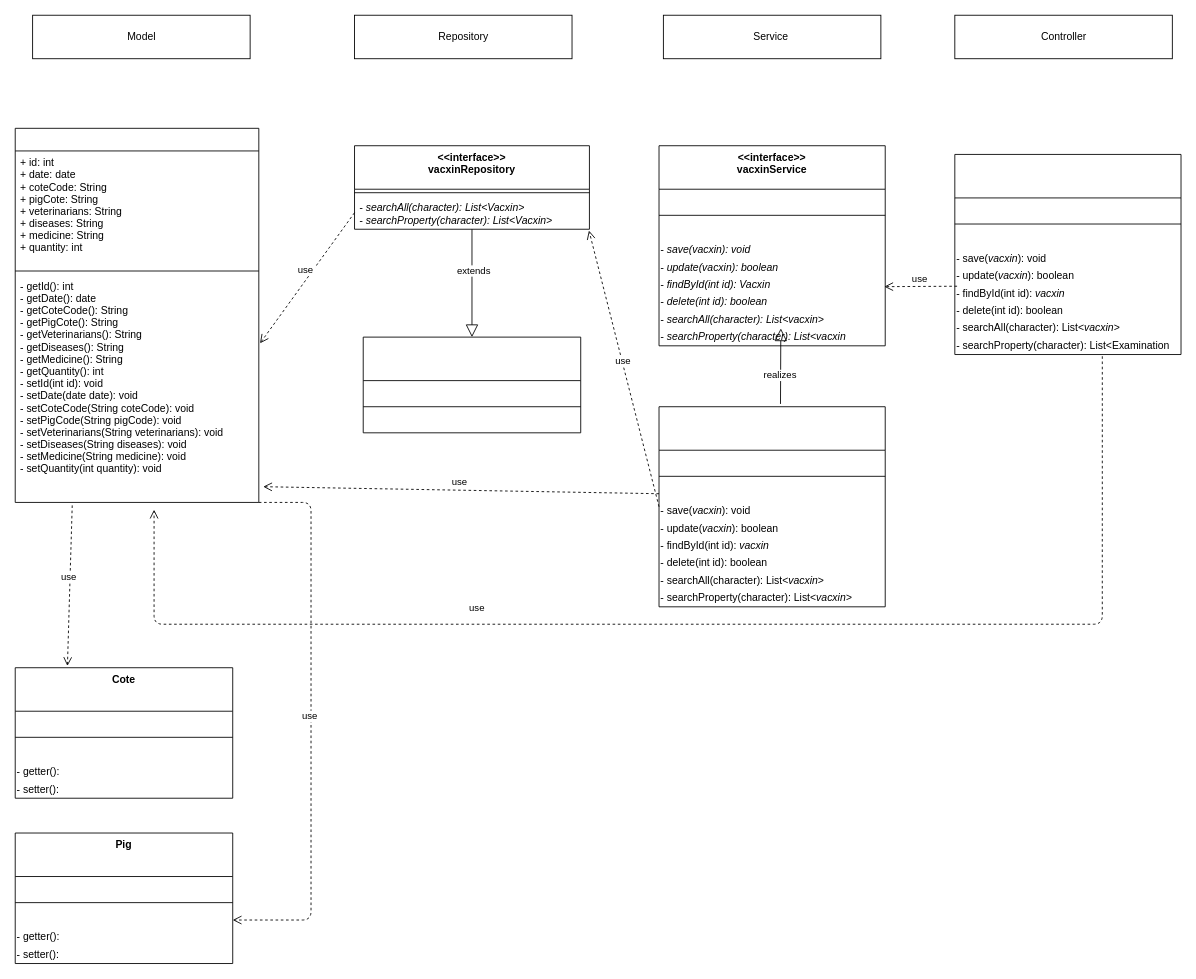
Image size: 1196x979. Some labels were removed from this diagram. The box of each missing label's shape, as (x1, y1, x2, y2) in pixels:
jpa repositoy: (362, 336, 581, 433)
Vacxin: (14, 127, 259, 502)
vacxinController: (954, 154, 1181, 355)
vacxinService: (658, 406, 885, 607)
